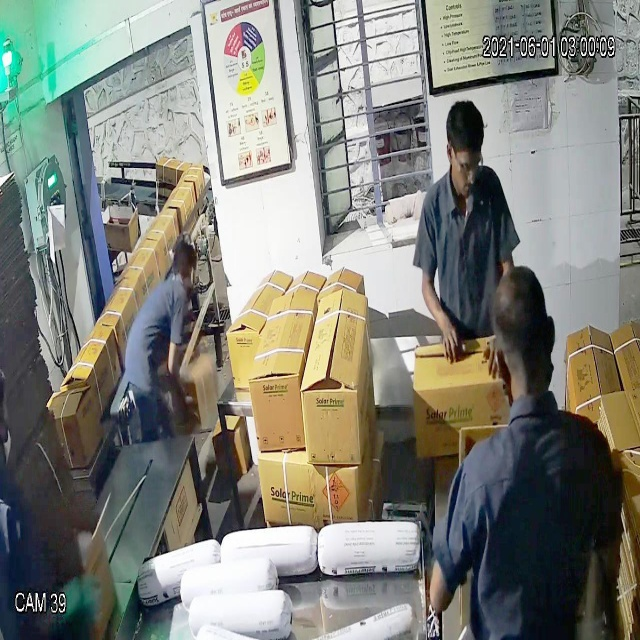Gafas: (443, 140, 487, 182)
